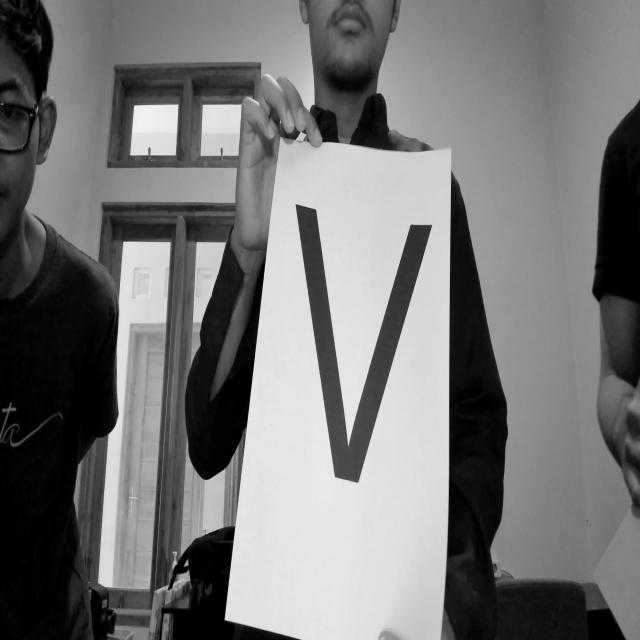v: (284, 181, 451, 524)
